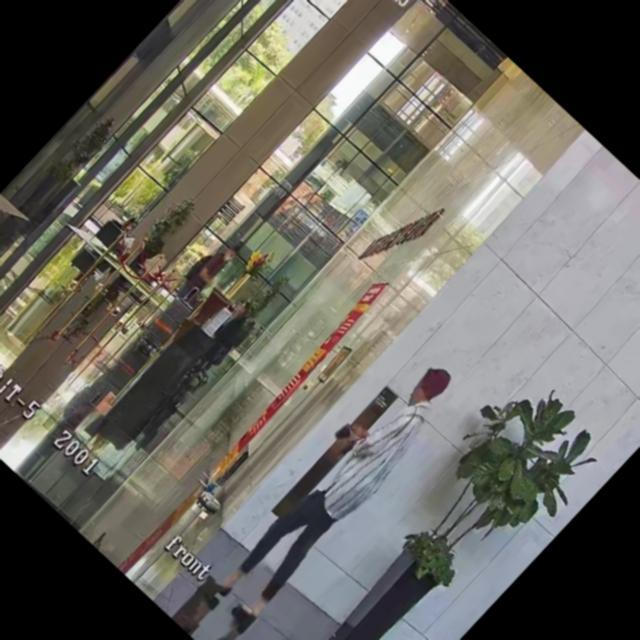person: (202, 346, 469, 626), (181, 297, 264, 384), (174, 230, 248, 306), (101, 215, 151, 266)
